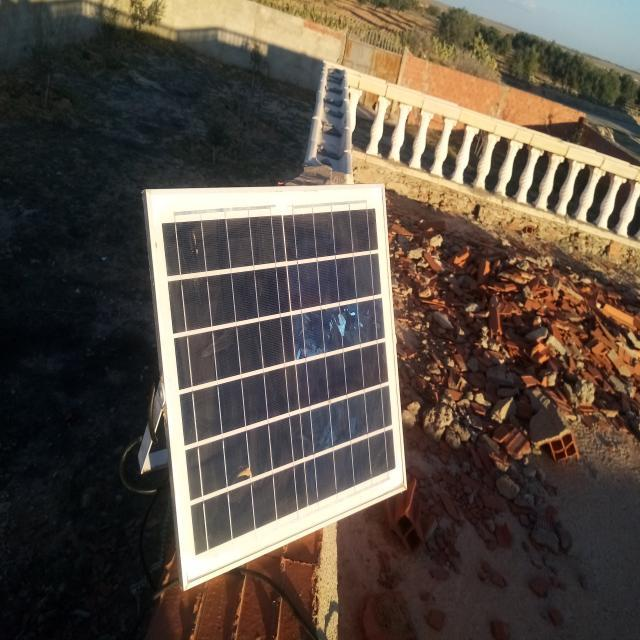faulty: (149, 185, 408, 587)
